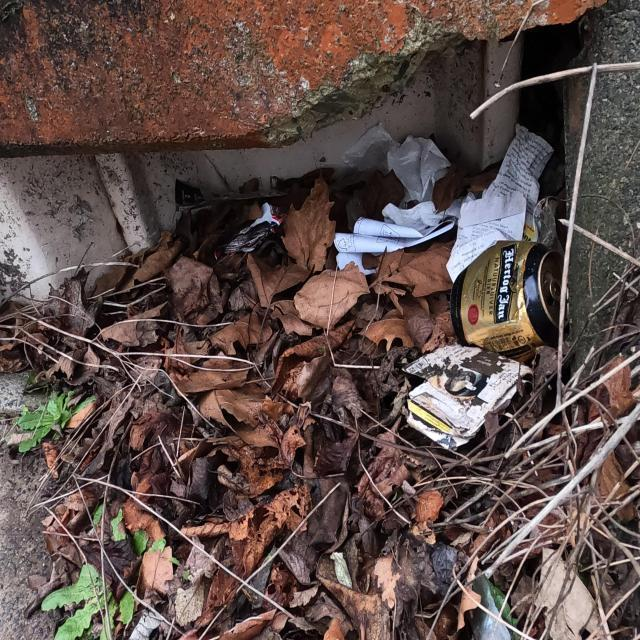Can-Metal: (454, 255, 580, 342)
Paper: (336, 201, 446, 271), (492, 117, 554, 207), (452, 198, 534, 254)
